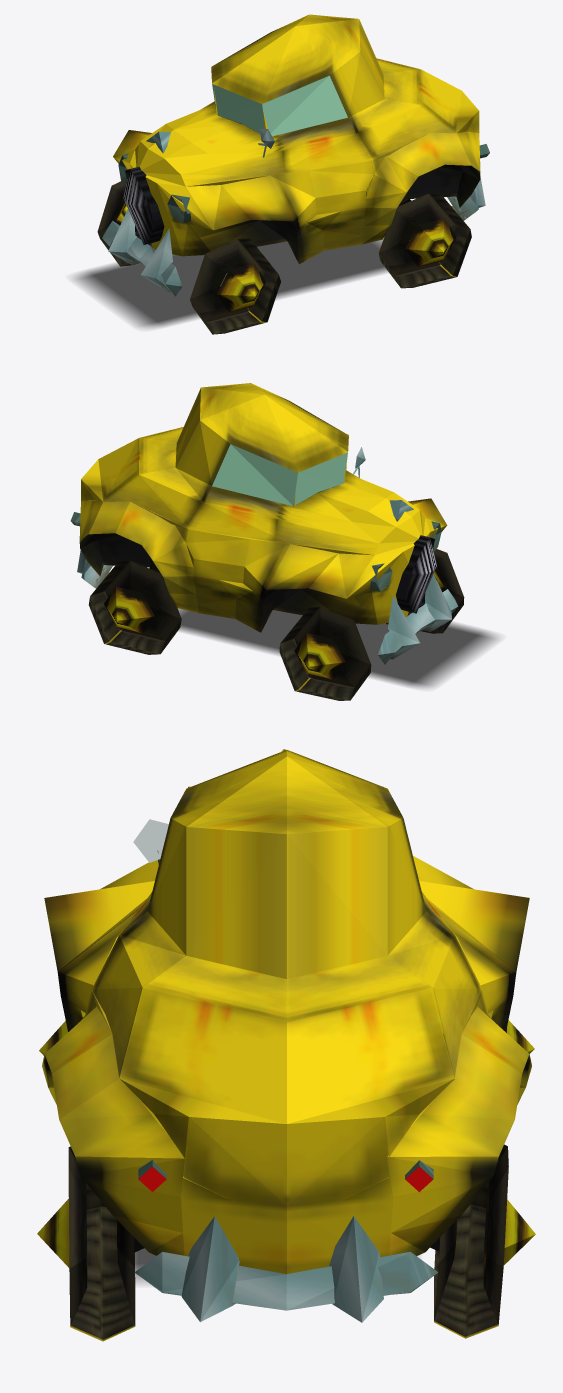
Rendered from hero_car_2746.glb.
3 renders of one model, top to bottom at view 1: azimuth 30°, elevation 25°; view 2: azimuth 150°, elevation 25°; view 3: azimuth 270°, elevation 25°, orthographic. The views are drawn at different scales.
Visible parts, largest first — view 1: auto_ohne_raeder_dstrebenShape, tuer_rShape1, pPlaneShape7, hrlShape, vrlShape, koferraumdeckelShape, kuehlerShape, stoszstange_vShape, vrrShape, stoszstange_lShape, stoszstange_rShape, stoszstange_hShape (+1 smaller); view 2: auto_ohne_raeder_dstrebenShape, tuer_rShape, pPlaneShape7, vrrShape, hrrShape, koferraumdeckelShape, kuehlerShape, stoszstange_vShape, vrlShape, stoszstange_rShape, stoszstange_lShape, stoszstange_hShape; view 3: auto_ohne_raeder_dstrebenShape, koferraumdeckelShape, hrrShape, hrlShape, stoszstange_hShape, stoszstange_lhShape, stoszstange_rhShape, tuer_rShape, tuer_rShape1, pCylinderShape3.
Part boxes in pixels (x1,y1,x2,y2): auto_ohne_raeder_dstrebenShape: [113, 14, 480, 264]; tuer_rShape1: [262, 75, 373, 238]; pPlaneShape7: [73, 238, 414, 328]; hrlShape: [379, 193, 471, 288]; vrlShape: [190, 238, 280, 334]; koferraumdeckelShape: [376, 58, 479, 132]; kuehlerShape: [123, 166, 164, 244]; stoszstange_vShape: [102, 220, 182, 296]; vrrShape: [97, 181, 152, 266]; stoszstange_lShape: [141, 228, 172, 292]; stoszstange_rShape: [108, 209, 139, 264]; stoszstange_hShape: [447, 191, 478, 220]; auto_ohne_raeder_dstrebenShape: [79, 383, 447, 632]; tuer_rShape: [186, 444, 297, 607]; pPlaneShape7: [178, 608, 498, 688]; vrrShape: [279, 607, 371, 700]; hrrShape: [88, 560, 181, 654]; koferraumdeckelShape: [81, 438, 139, 501]; kuehlerShape: [396, 535, 436, 613]; stoszstange_vShape: [378, 589, 458, 664]; vrlShape: [386, 549, 464, 633]; stoszstange_rShape: [388, 595, 419, 659]; stoszstange_lShape: [423, 574, 451, 631]; stoszstange_hShape: [81, 559, 112, 588]; auto_ohne_raeder_dstrebenShape: [42, 750, 531, 1274]; koferraumdeckelShape: [119, 988, 454, 1206]; hrrShape: [434, 1144, 535, 1338]; hrlShape: [37, 1146, 135, 1341]; stoszstange_hShape: [134, 1252, 438, 1310]; stoszstange_lhShape: [181, 1216, 239, 1321]; stoszstange_rhShape: [329, 1216, 383, 1322]; tuer_rShape: [421, 891, 516, 1027]; tuer_rShape1: [58, 892, 151, 1027]; pCylinderShape3: [133, 819, 168, 862].
Size of the model in its own units: 0.4368 by 0.2532 by 0.2565.
Materials: 41 (32 with a texture image).
